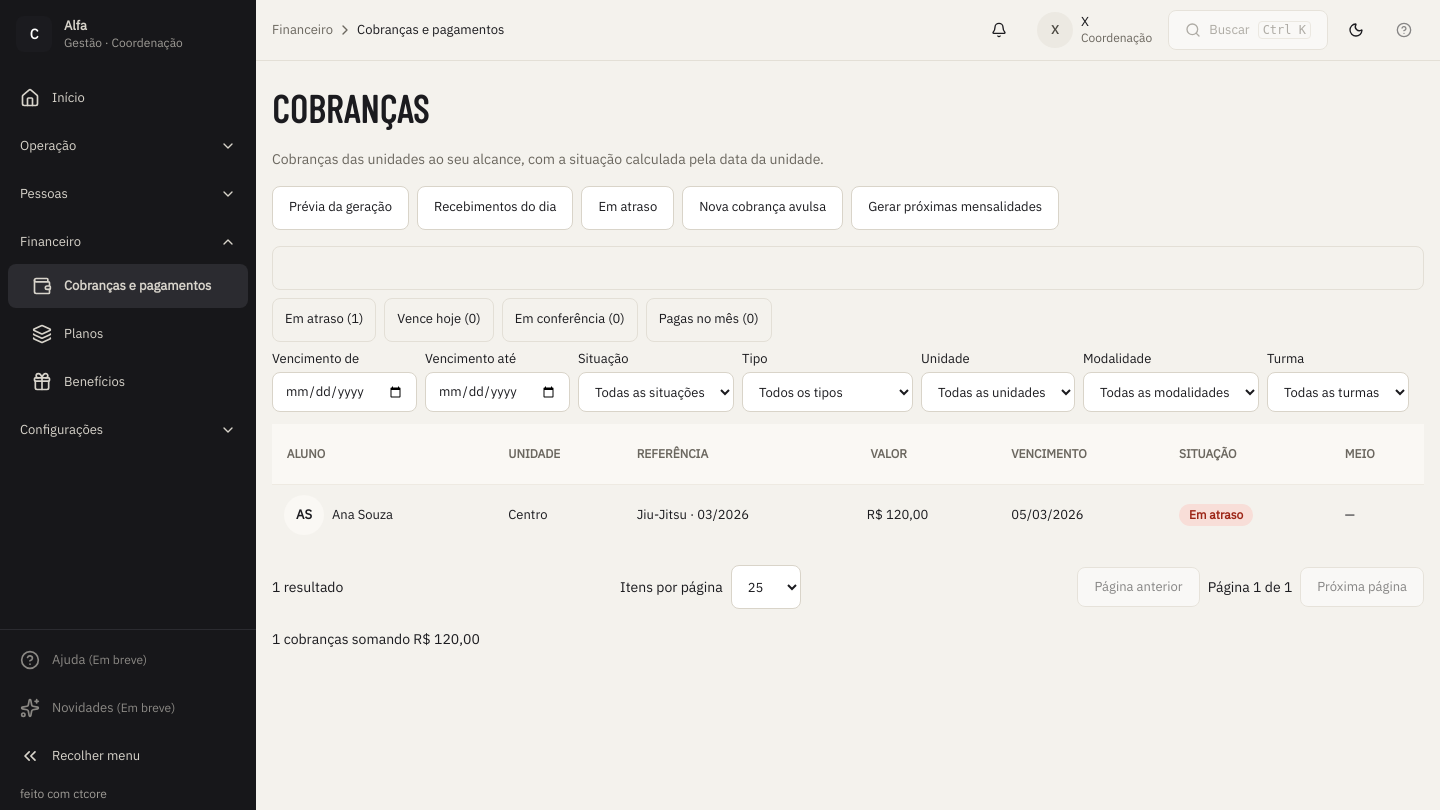
Scenario: ChargePanel (RF-COB-02) › CA15: abre pela lista, vai para o endereço e mostra os blocos, Cancelar e Renegociar e as três ações desabilitadas com o motivo
What coordinates should you click on to do the following:
click the button with aria-label "Abrir cobrança de Ana Souza"
I would click on:
 (693, 515)
Its box is [637, 493, 749, 537].
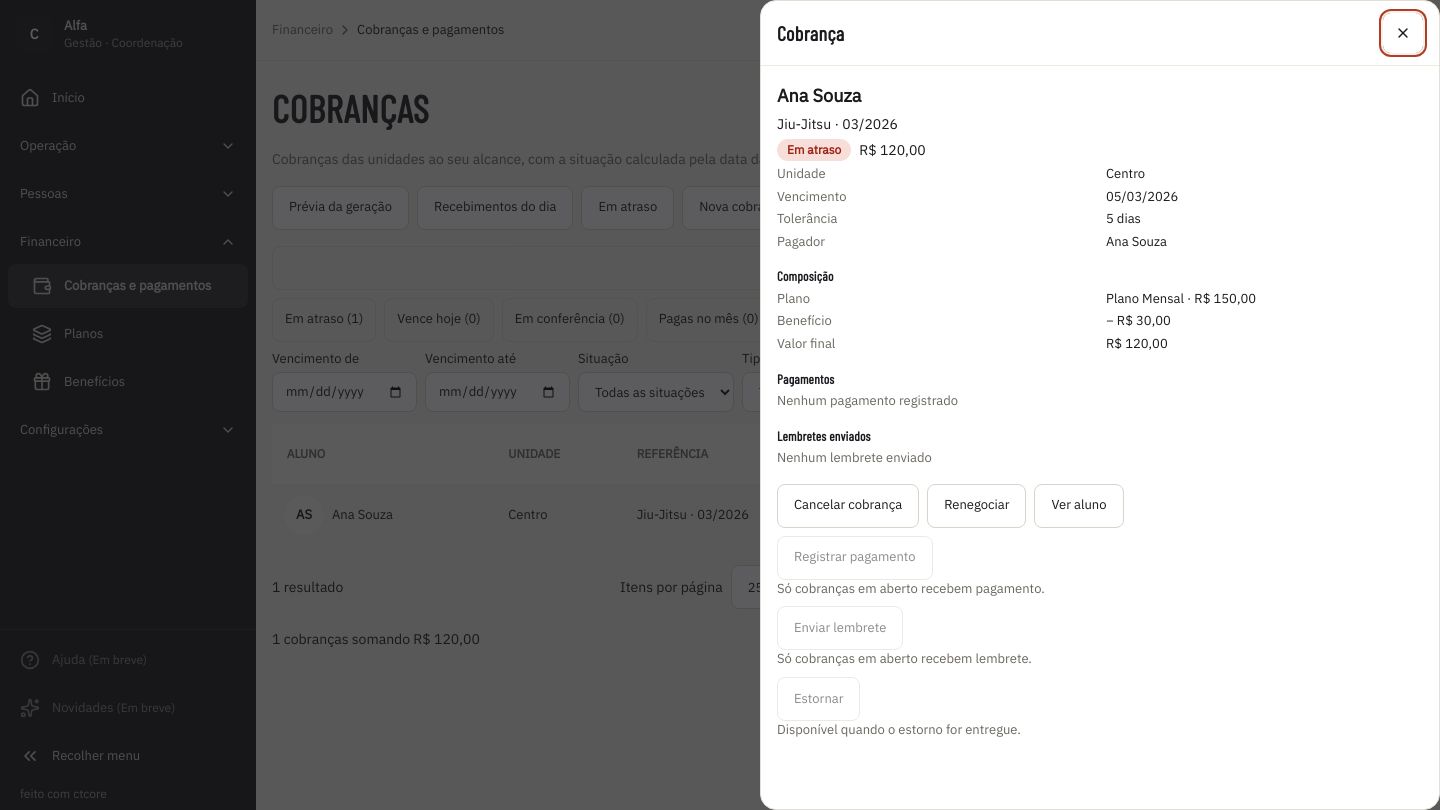
Expected: the text "Plano Mensal · R$ 150,00" is shown, [1106, 290, 1256, 307]
Expected: the text "− R$ 30,00" is shown, [1106, 312, 1171, 329]
Expected: the text "5 dias" is shown, [1106, 210, 1141, 227]
